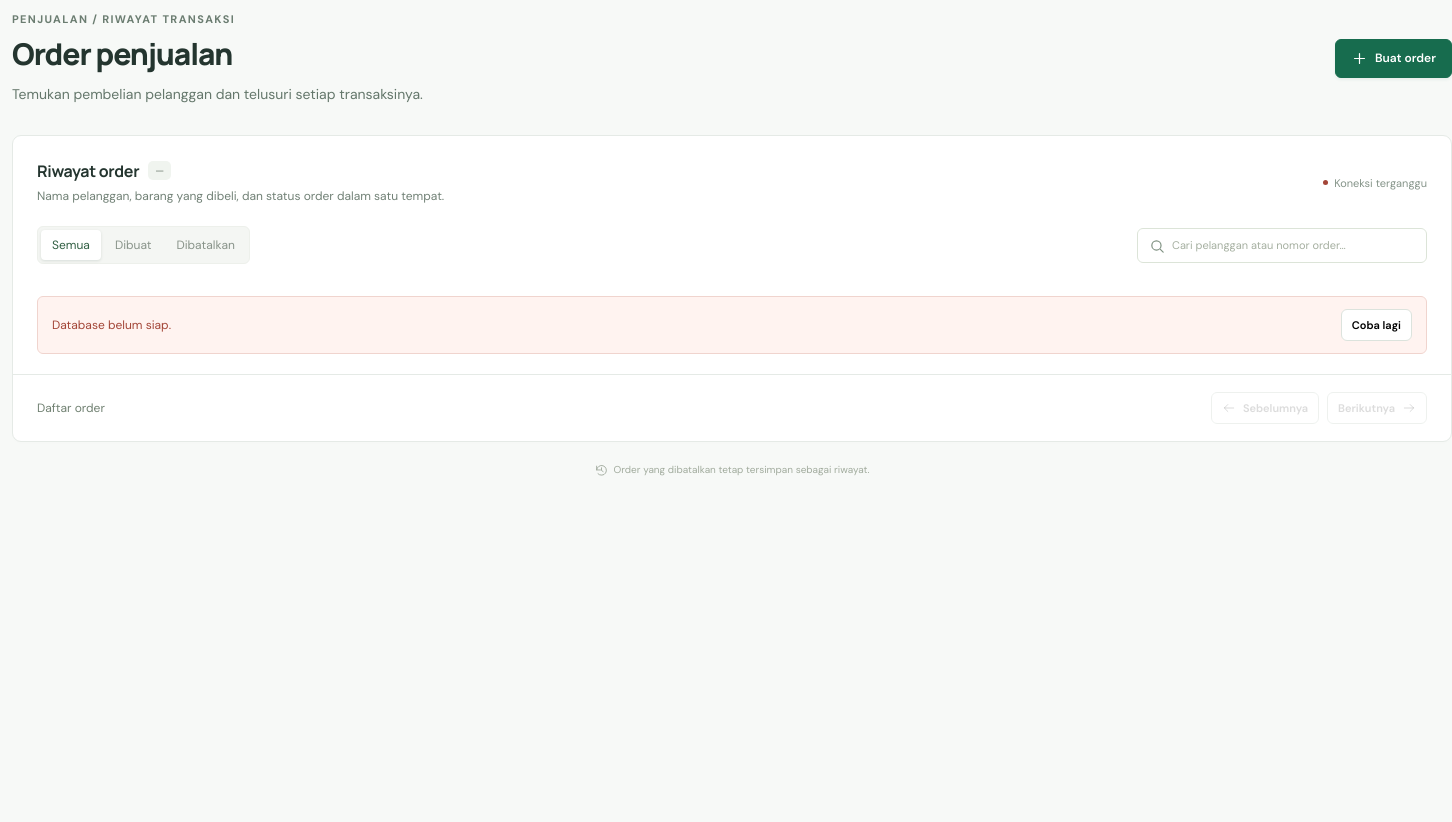
shows a failed request and retries successfully
The image size is (1452, 822).
Expected: the message "Database belum siap. Coba lagi" is shown, [37,296,1427,354]
Click the button "Coba lagi" at (1376, 325), box [1341,309,1412,341]
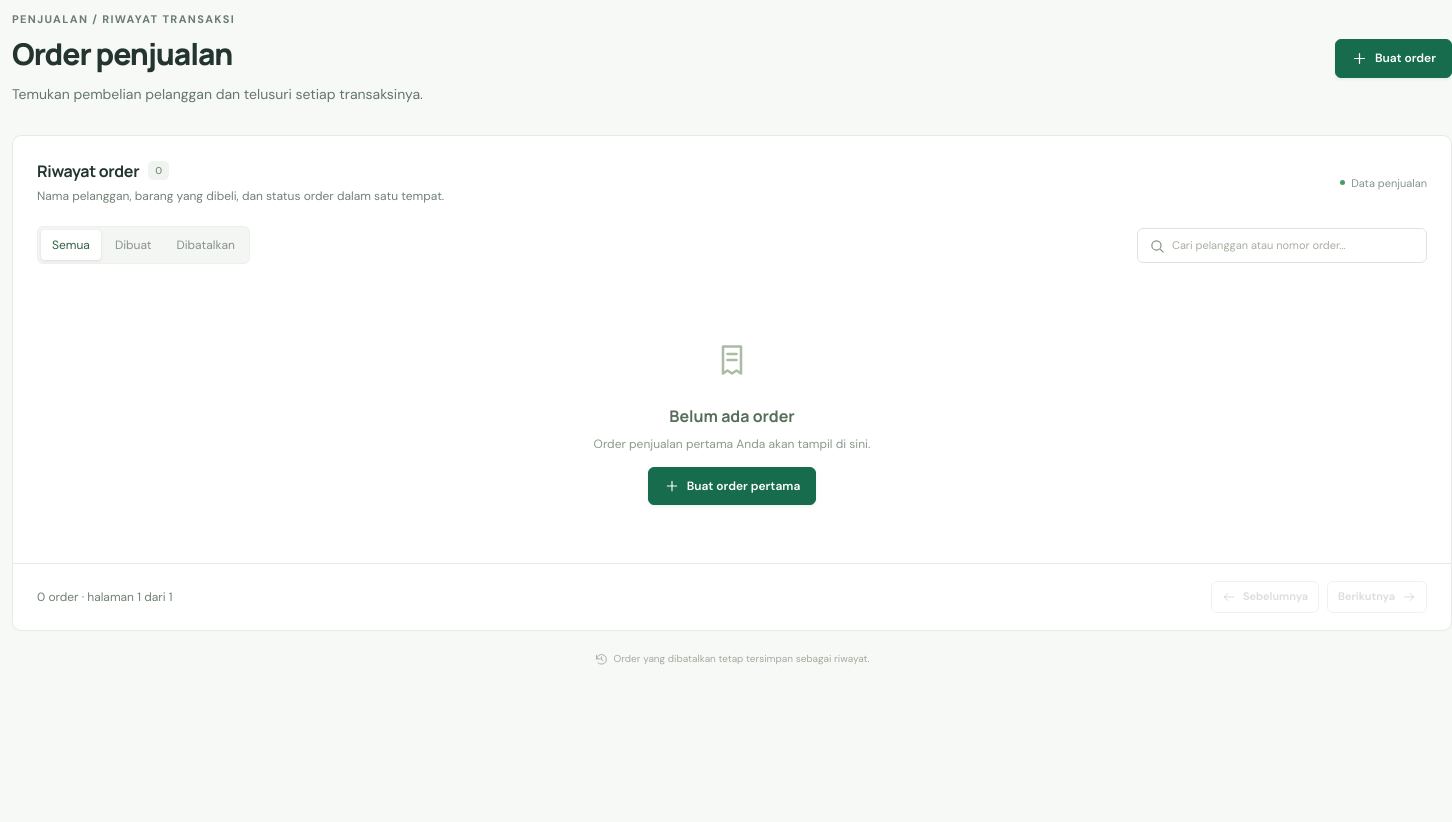
Expected: the heading "Belum ada order" is shown, [669,405,795,427]
